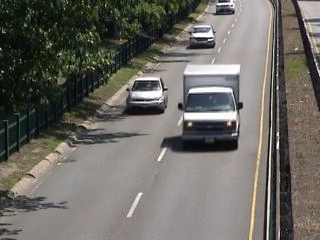car: (125, 77, 171, 113), (185, 21, 219, 55), (213, 1, 238, 16)
truck: (177, 63, 244, 152)
